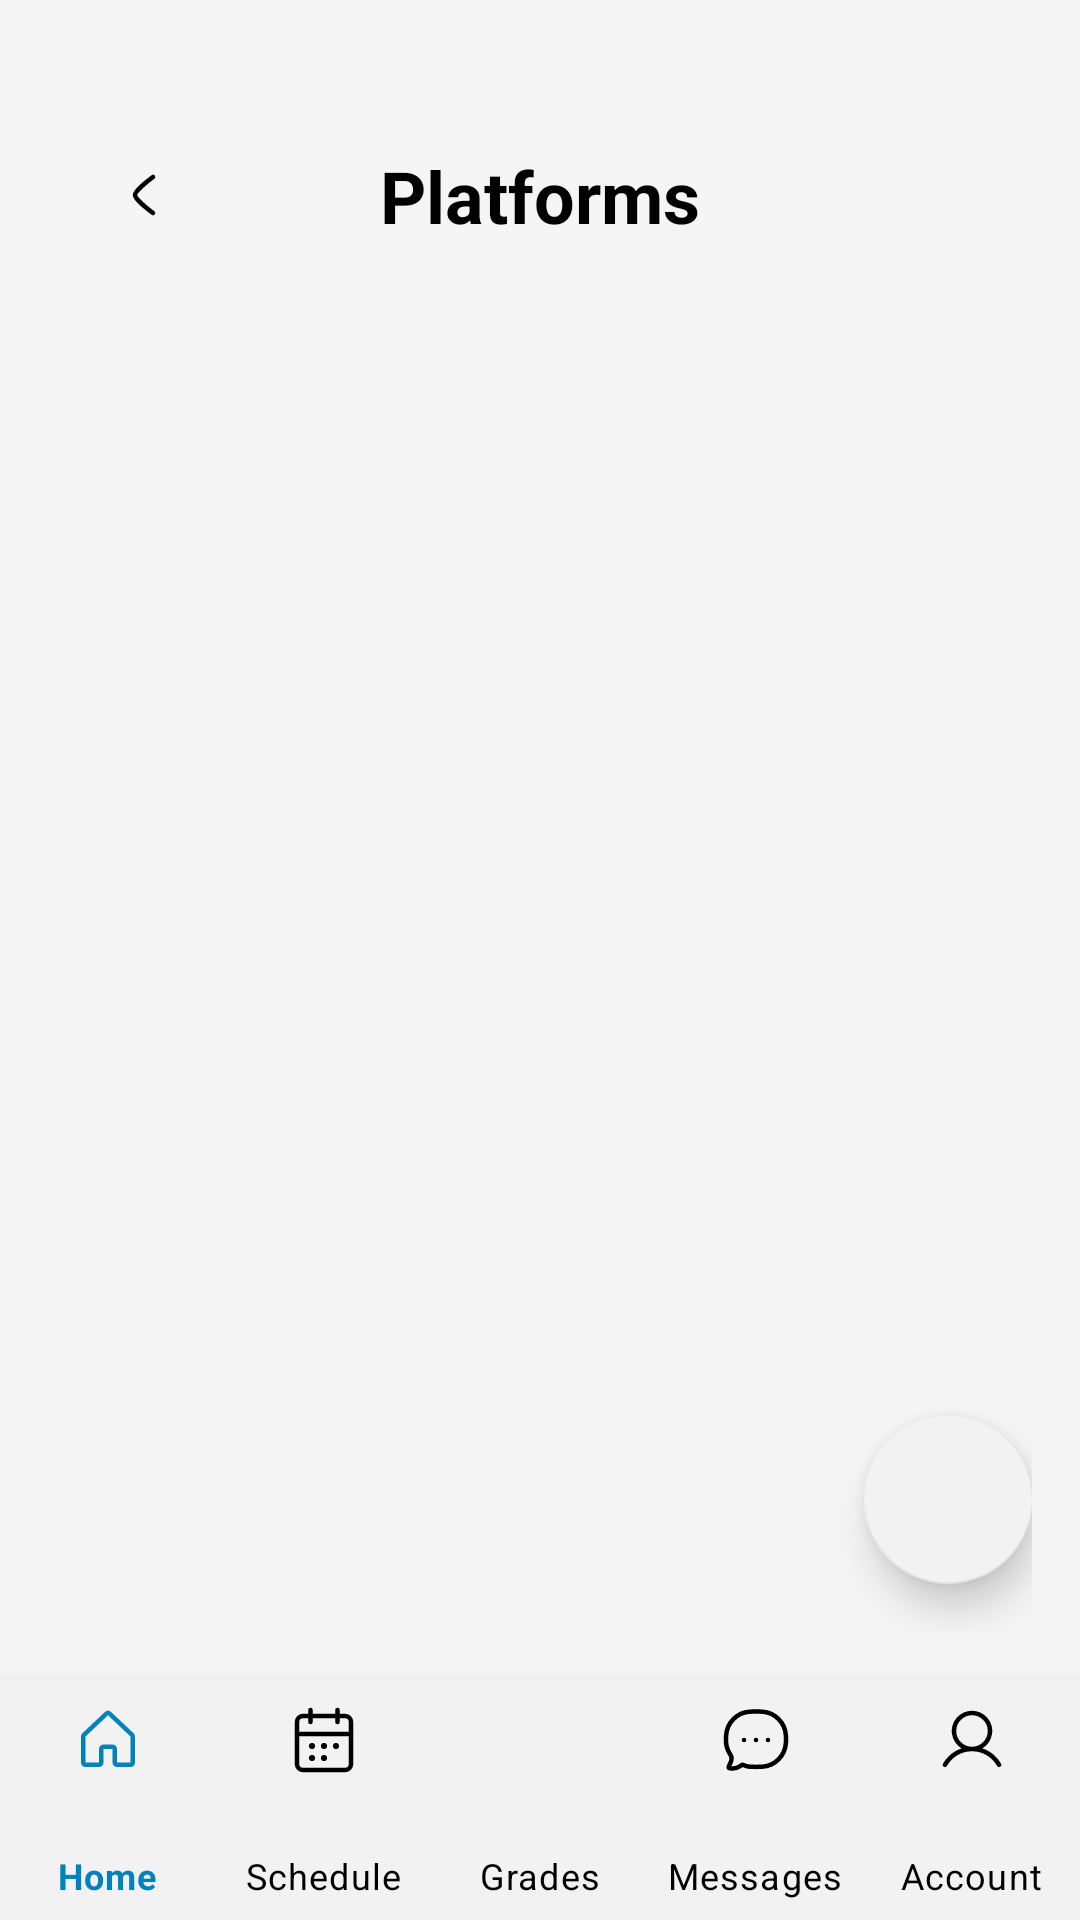

Named icons in this screenshot (1080px×1920px) and their bounding boxes, {"left": x1, "top": y1, "right": x2, "bottom": y2}:
Back: {"left": 132, "top": 174, "right": 156, "bottom": 216}
